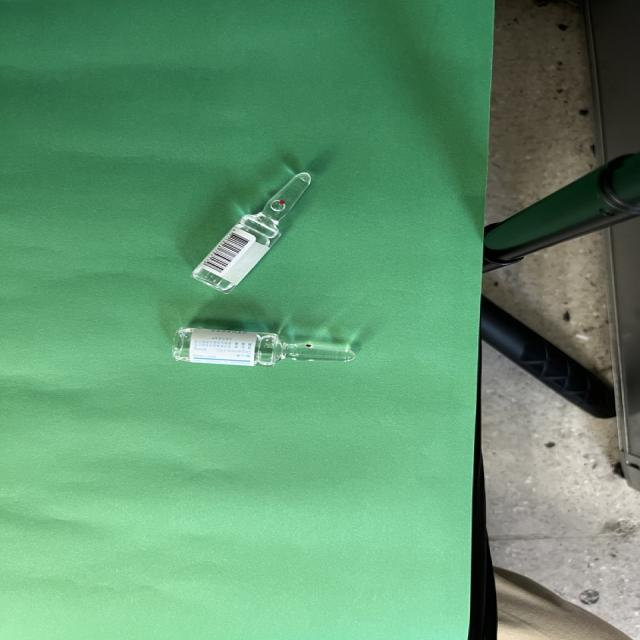Ampoules: (193, 172, 311, 293), (173, 328, 356, 366)
